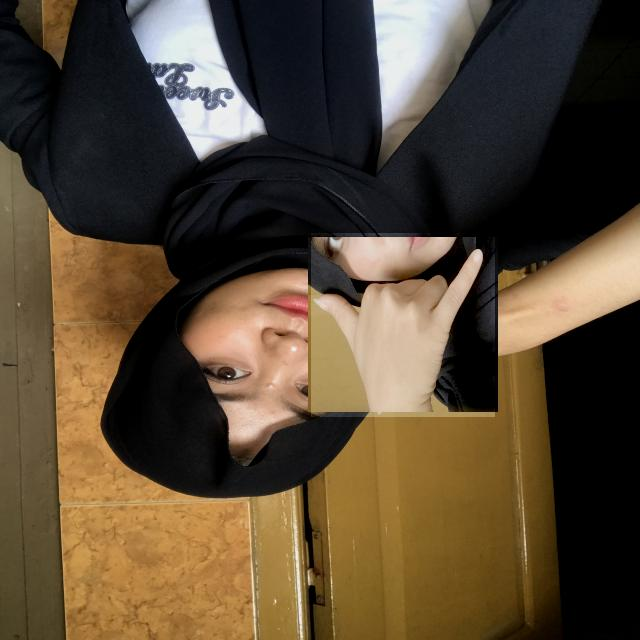telpon: (311, 233, 495, 417)
